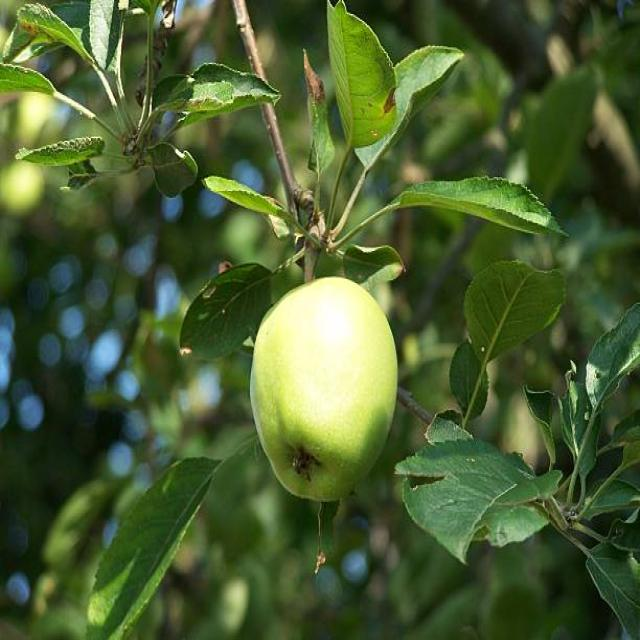Unripe: (248, 272, 397, 505)
